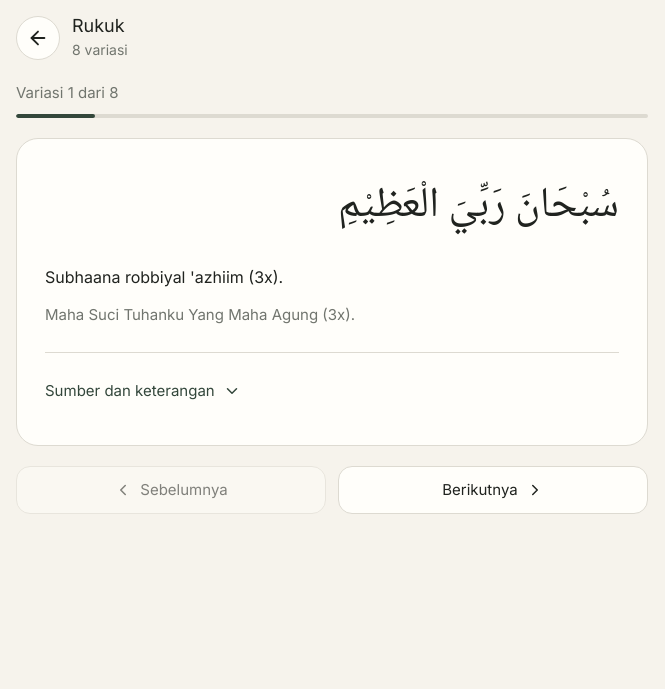
Test: Detail page › does not show the Jenis dalil field in source details
Click the heading "Sumber dan keterangan" at (143, 391), box [45,381,241,400]
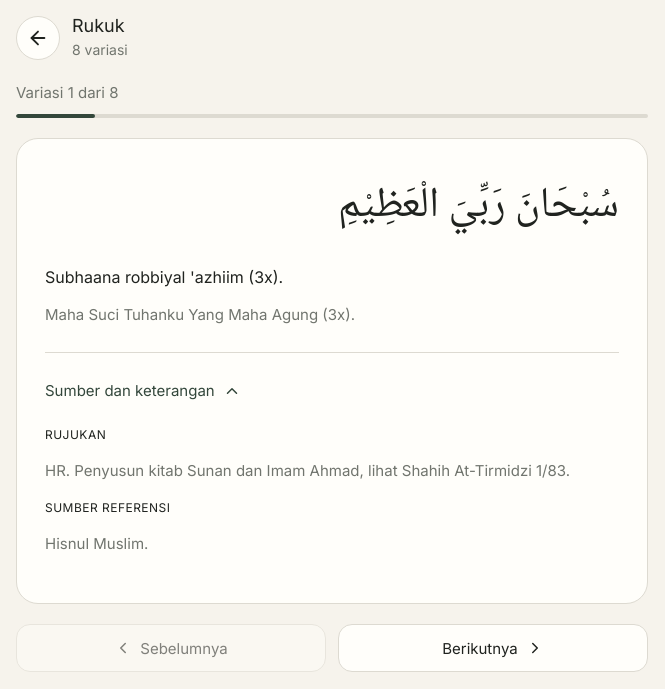
Now the text "Rujukan" is shown, box [45,427,106,442]
